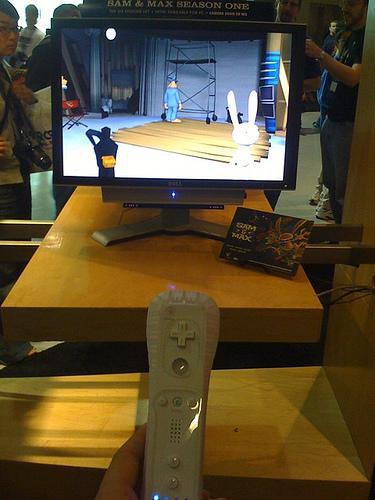hand: (86, 417, 194, 497)
tv: (47, 23, 291, 205)
